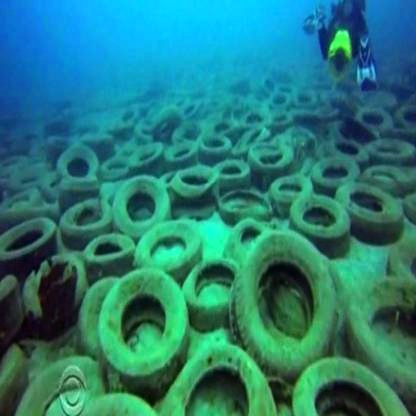tire: (229, 224, 338, 374), (150, 342, 274, 416), (100, 266, 195, 362), (292, 352, 405, 416), (18, 360, 146, 416), (113, 170, 176, 235), (182, 260, 244, 326), (137, 224, 199, 287), (17, 258, 79, 318), (338, 176, 402, 232), (295, 194, 352, 252), (0, 206, 58, 263), (73, 272, 110, 356), (52, 199, 115, 238), (168, 165, 219, 207), (272, 180, 318, 221), (382, 224, 416, 278), (330, 131, 372, 173), (226, 178, 274, 214), (312, 155, 357, 192), (220, 216, 263, 254), (52, 138, 96, 174), (255, 139, 301, 171), (356, 104, 392, 138), (370, 135, 413, 163), (212, 160, 250, 188), (199, 127, 233, 158), (126, 146, 168, 168), (393, 91, 416, 128)
